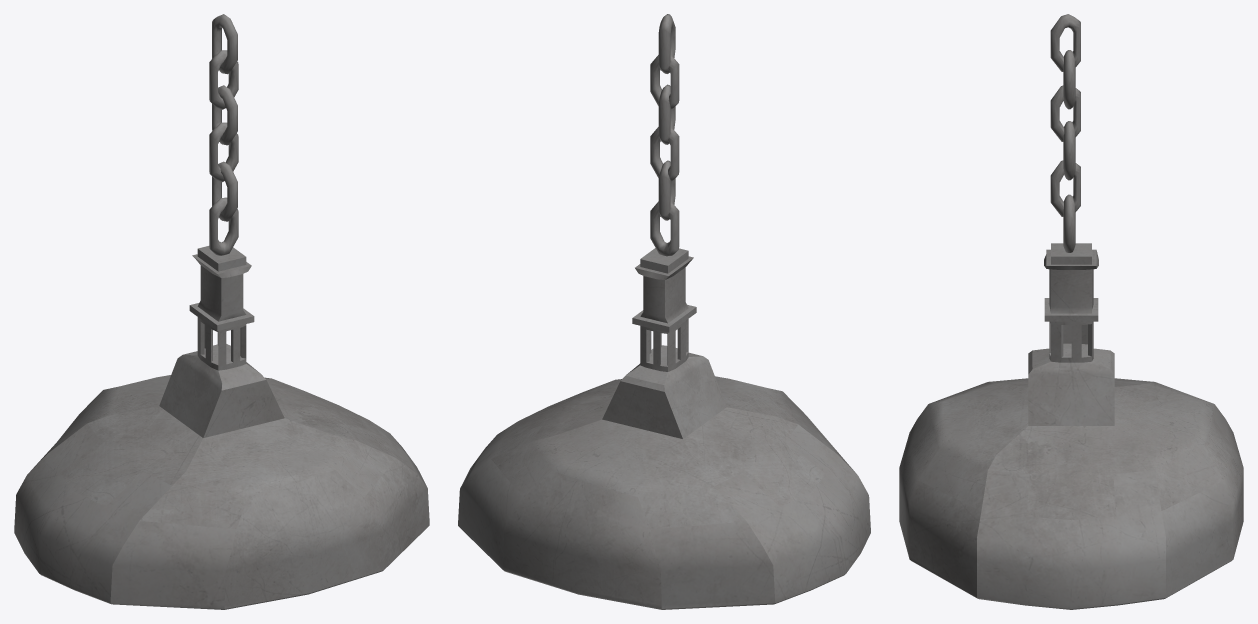
File: Lamp_01.fbx
3 views of the same model, side by side, from view 1: azimuth 30°, elevation 25°; view 2: azimuth 150°, elevation 25°; view 3: azimuth 270°, elevation 25° (orthographic).
Parts seen in each view (by area): view 1: Lamp_01; view 2: Lamp_01; view 3: Lamp_01.
Part boxes in pixels (box(x1,y1,x2,y2)): Lamp_01: box(14, 14, 429, 609); Lamp_01: box(458, 14, 870, 609); Lamp_01: box(899, 14, 1243, 609).
Bounding box in the file's own units: 211 × 299 × 176.
